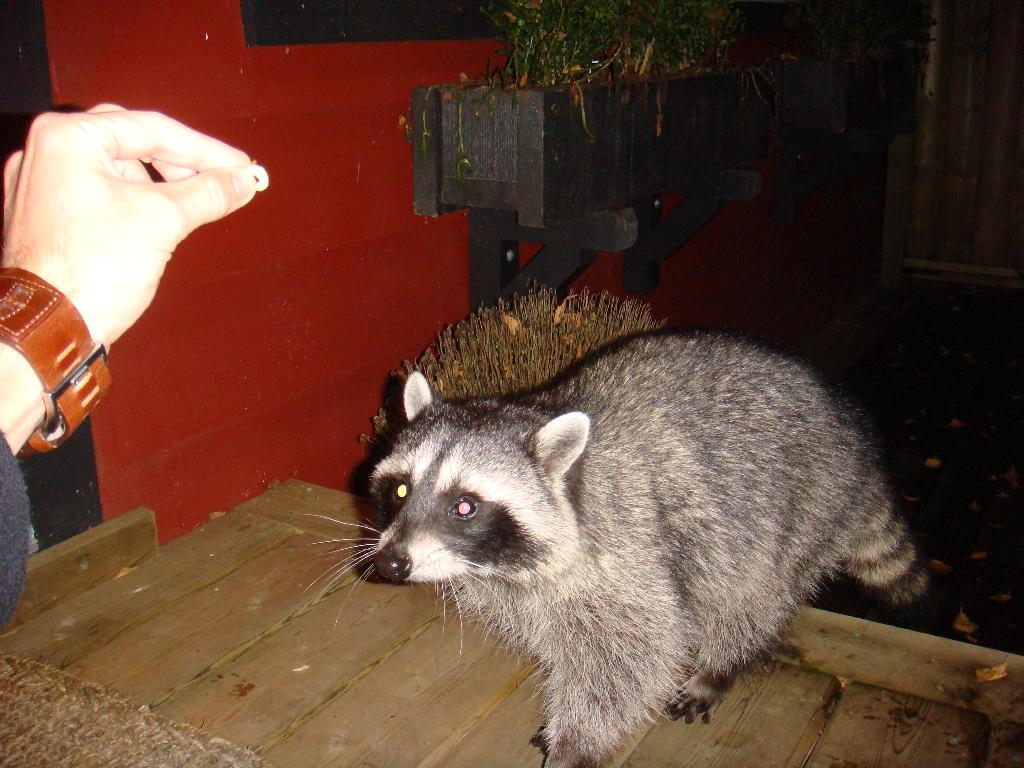raccoon: (361, 329, 943, 768)
